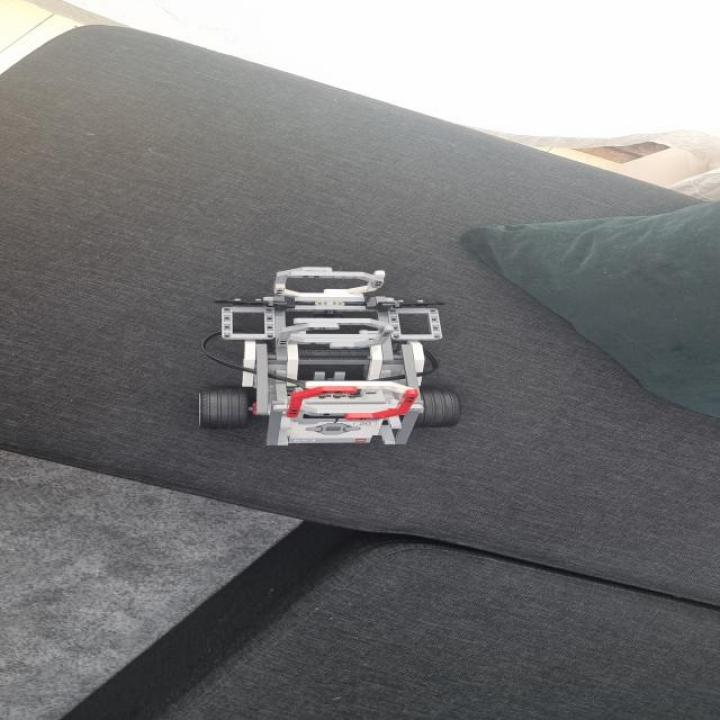robot: (198, 266, 462, 447)
